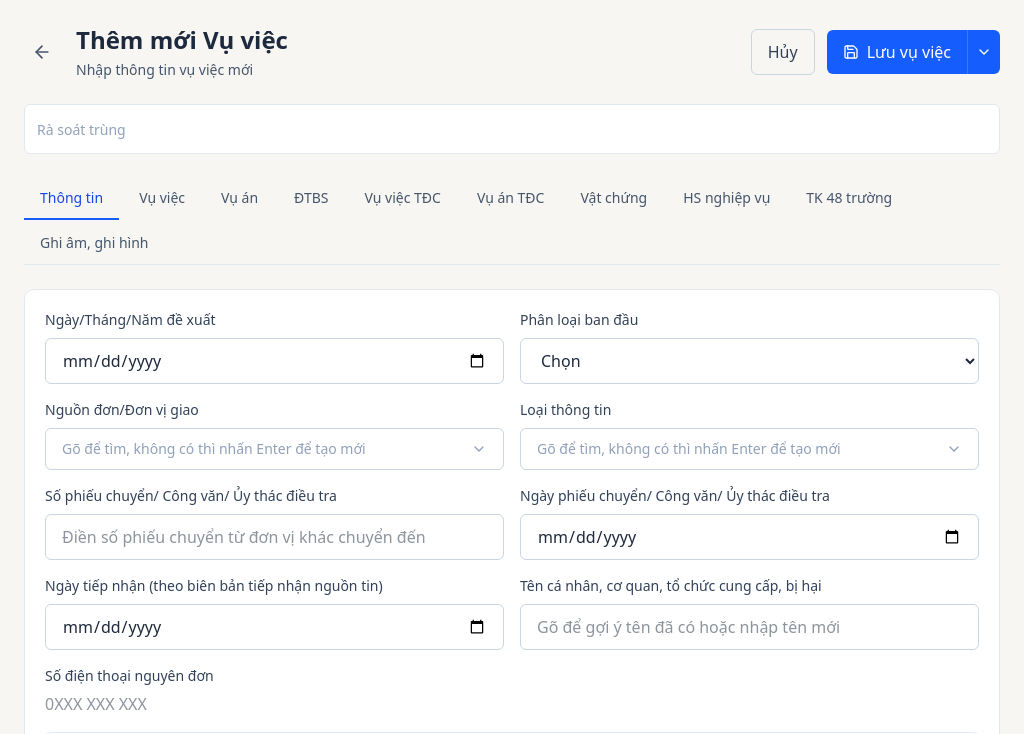
Incident form petition interaction parity › quick-creates and selects a new petition source
This screenshot has width=1024, height=734.
Click the dropdown with test id "field-nguonDon-trigger" at (274, 449), box [45,428,504,470]
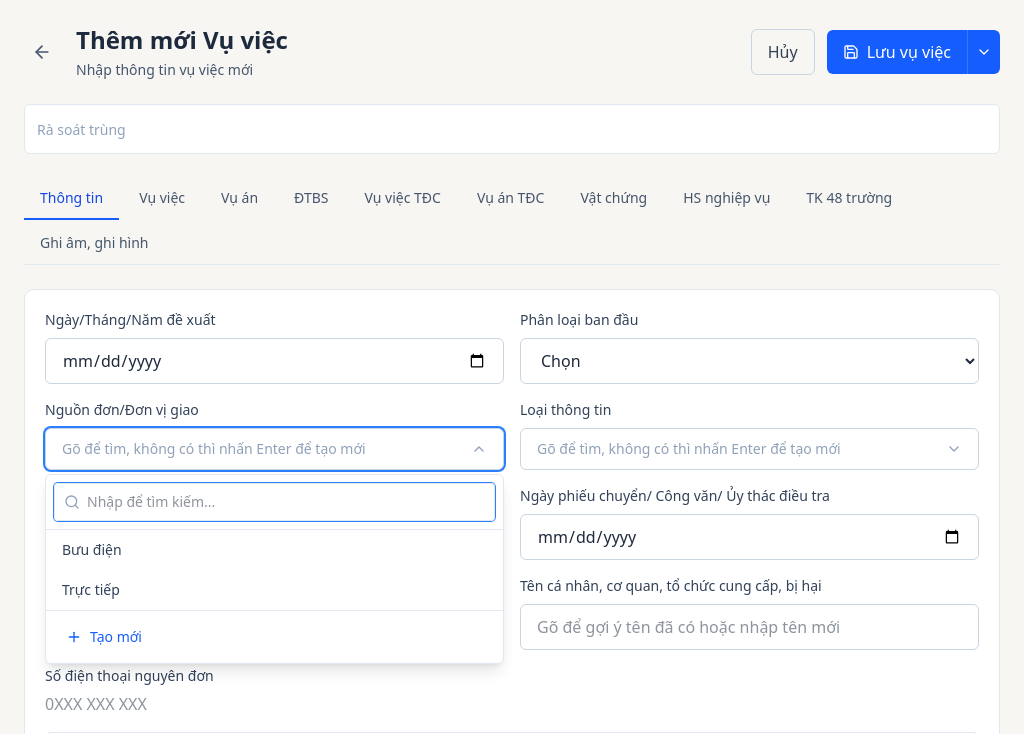
Type "Nguồn mới" into the field with test id "field-nguonDon-search" at (274, 502), box [54,483,495,521]
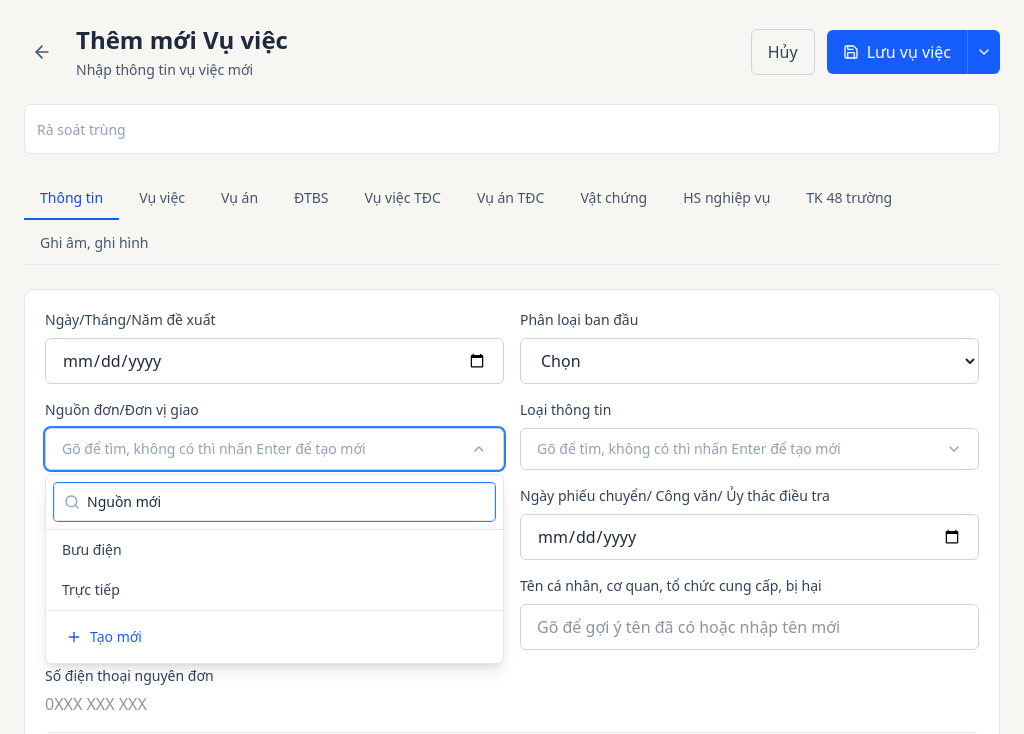
Click the button with test id "field-nguonDon-create-new" at (116, 636), box [54,619,495,655]
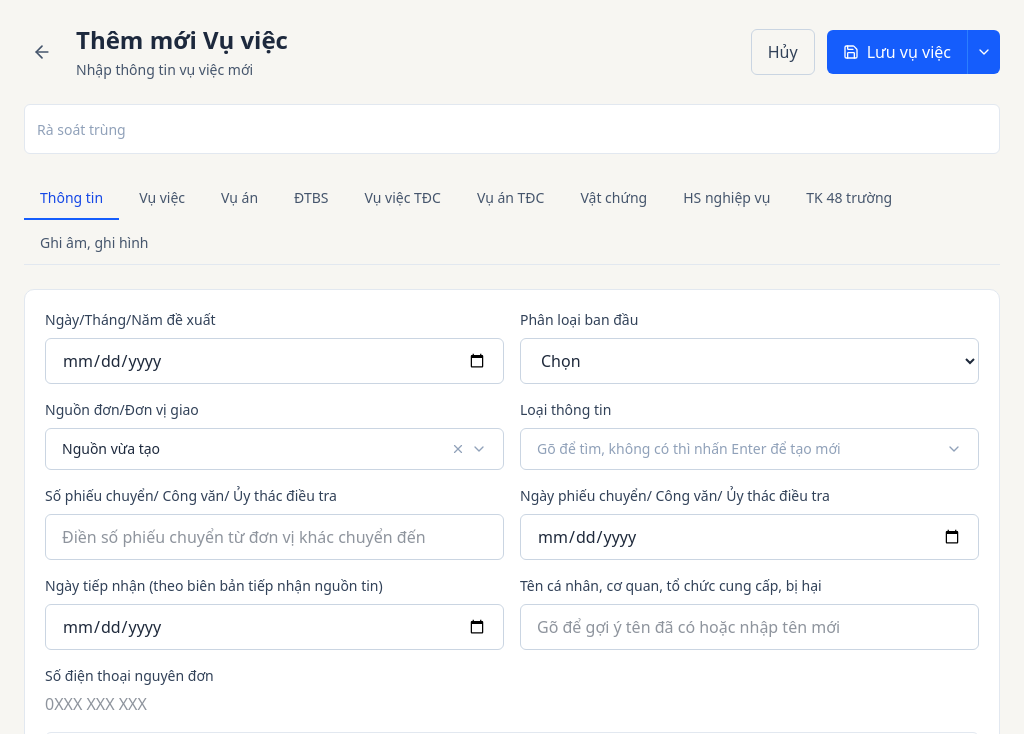
Check: the dropdown with test id "field-nguonDon-trigger" reads "Nguồn vừa tạo", box [45,428,504,470]
